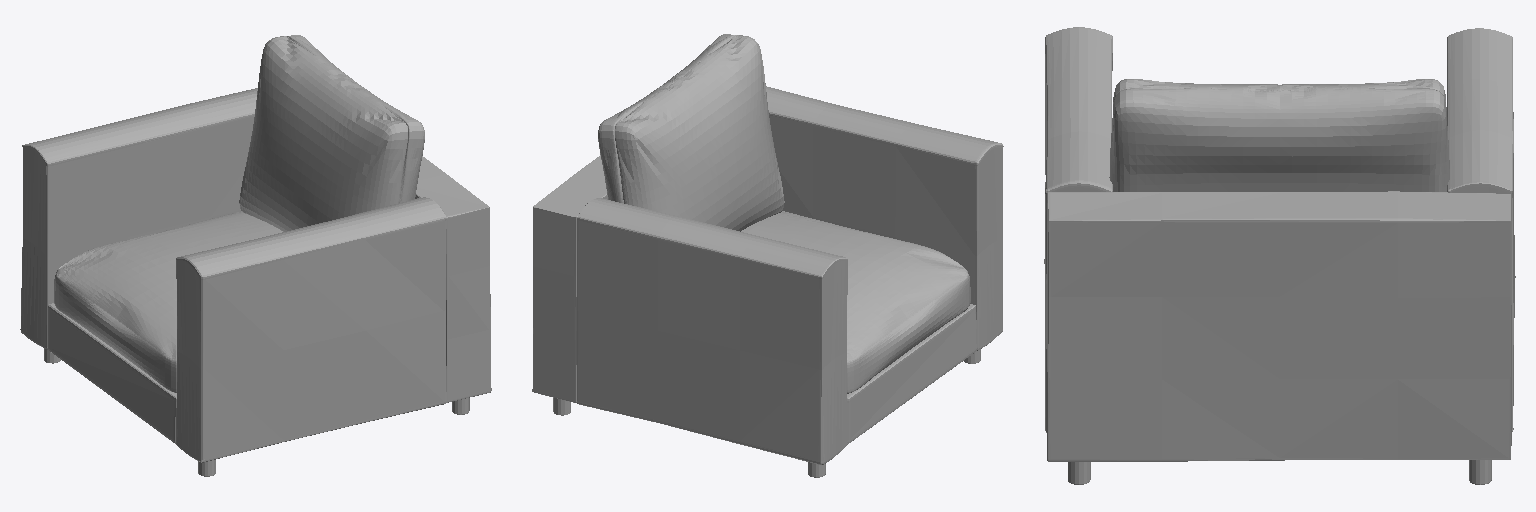
The robot description file, URDF, robot "chair.urdf":
<?xml version="0.0" ?>
<robot name="chair.urdf">
  <link name="baseLink">
    <contact>
      <lateral_friction value="1.0"/>
    </contact>

    <inertial>
      <origin rpy="0 0 0" xyz="0 0 0"/>
       <mass value=".0"/>
       <inertia ixx="1" ixy="0" ixz="0" iyy="1" iyz="0" izz="1"/>
    </inertial>

    <visual>
      <origin rpy="1.57075 0 0" xyz="-0.9 0 0"/>
      <geometry>
        <mesh filename="Chair.obj" scale="0.5 0.5 0.5"/>
      </geometry>
       <material name="gray">
        <color rgba="0.7 0.7 0.7 1"/>
      </material>
    </visual>

    <collision concave="yes">
      <origin rpy="1.57075 0 0" xyz="-0.9 0 0"/>
      <geometry>
	 	    <mesh filename="Chair.obj" scale="0.5 0.5 0.5"/>
      </geometry>
    </collision>
  </link>
</robot>

--- What the picture shows (computed from the rendered views, not written in the file) ---
The picture shows the robot from 3 angles, left to right: view 1: azimuth 30°, elevation 25°; view 2: azimuth 150°, elevation 25°; view 3: azimuth 270°, elevation 25°; orthographic projection.
Model chair.urdf with 1 links and 0 joints (none), rooted at baseLink, posed every joint at zero.
Links seen in each view (by area): view 1: baseLink; view 2: baseLink; view 3: baseLink.
Link boxes in pixels (bbox=[...]): baseLink: bbox=[20, 35, 491, 476]; baseLink: bbox=[532, 34, 1003, 477]; baseLink: bbox=[1044, 27, 1515, 484].
Bounding box of the posed robot: 0.6572 × 0.7044 × 0.6101 m (x, y, z).
Meshes: 1 distinct files referenced, 1 mesh visuals loaded (1 OBJ).